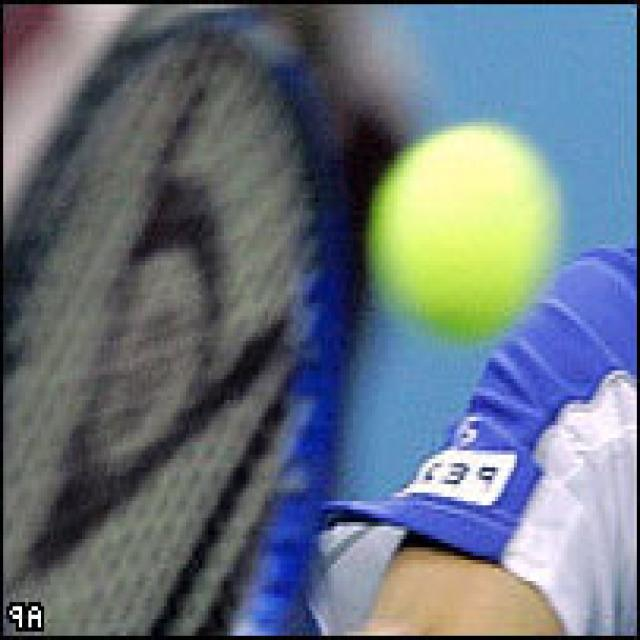Tennis Ball: (366, 122, 564, 349)
